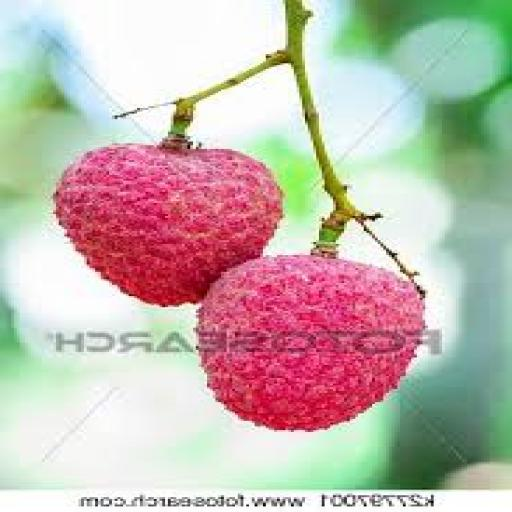lychee: (198, 256, 421, 430), (53, 146, 281, 305)
